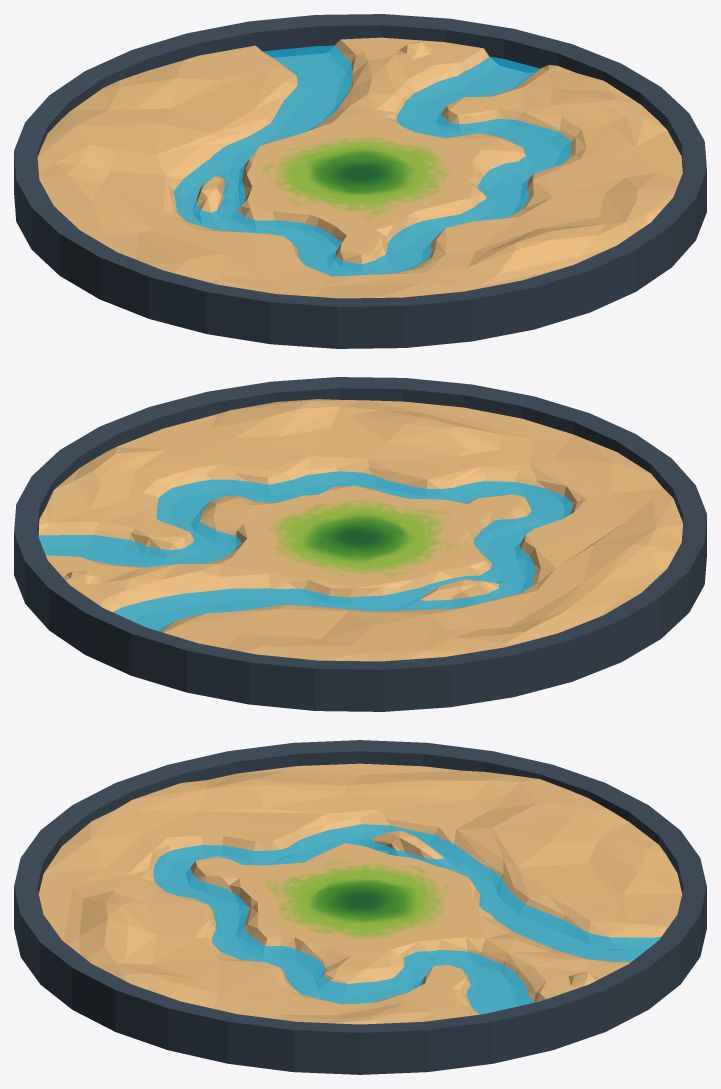
File: landscape.glb
The picture shows the model from 3 angles, top to bottom: view 1: azimuth 30°, elevation 25°; view 2: azimuth 150°, elevation 25°; view 3: azimuth 270°, elevation 25°; orthographic projection.
Visible parts, largest first — view 1: terrain, boardEdge, river; view 2: terrain, boardEdge, river; view 3: terrain, boardEdge, river.
Boxes of the visible parts, bbox=[...] form: terrain: bbox=[37, 37, 682, 298]; boardEdge: bbox=[14, 14, 706, 348]; river: bbox=[173, 45, 571, 276]; terrain: bbox=[38, 399, 682, 661]; boardEdge: bbox=[14, 377, 706, 711]; river: bbox=[38, 471, 572, 631]; terrain: bbox=[38, 763, 682, 1024]; boardEdge: bbox=[14, 740, 706, 1074]; river: bbox=[153, 824, 661, 1014].
Size of the model in its own units: 195 by 13.03 by 195.
Materials: 3 (1 with a texture image).
